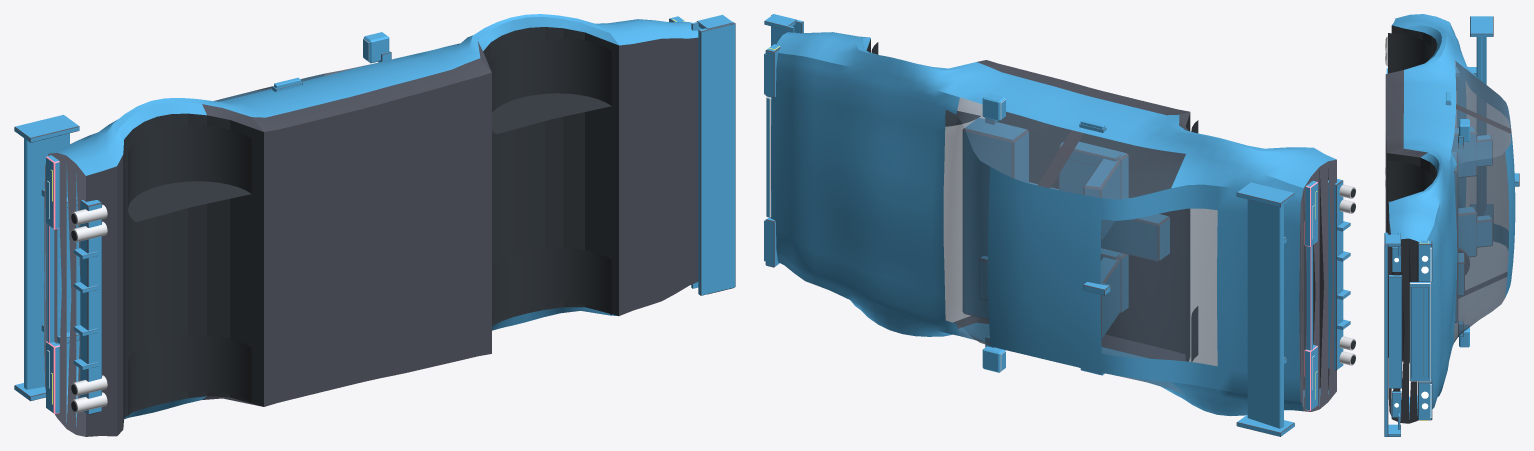
File: etk_coupe.glb
3 views of the same model, side by side, from view 1: azimuth 30°, elevation 25°; view 2: azimuth 150°, elevation 25°; view 3: azimuth 270°, elevation 25° (orthographic). The views are drawn at different scales.
Visible parts, largest first — view 1: ETK_Sport_Coupe; view 2: ETK_Sport_Coupe; view 3: ETK_Sport_Coupe.
Part boxes in pixels (x1=…): ETK_Sport_Coupe: x1=14, y1=14, x2=735, y2=436; ETK_Sport_Coupe: x1=764, y1=14, x2=1355, y2=436; ETK_Sport_Coupe: x1=1384, y1=14, x2=1519, y2=436.
Size of the model in its own units: 4.47 by 2.02 by 1.1.
